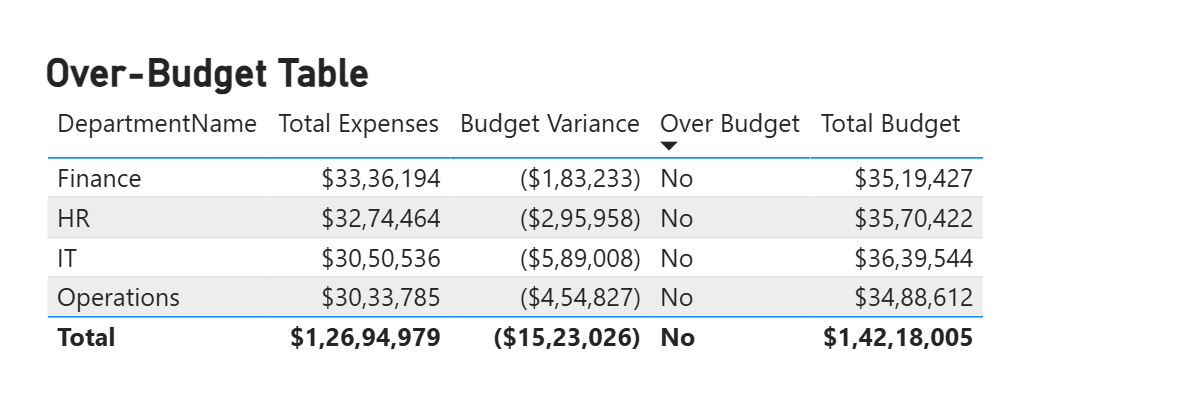

The page's visual inventory and layout, read from the dashboard file:
{"tool":"powerbi","page":{"name":"Page 4","canvas":[1280,720],"ordinal":3},"visuals":[{"type":"tableEx","title":"Over-Budget Table","fields":{"Values":["Departments.DepartmentName","Measures (2).Total Expenses","Measures (2).Budget Variance","Measures (2).Over Budget","Measures (2).Total Budget"]},"box":[141.7,156.7,538.3,173.3],"z":0}]}

Visuals, with their boxes on the page's 1280x720 design canvas (x1, y1, x2, y2). These are canvas units, not pixel positions in the 1195x416 screenshot, which may show the page scaled, cropped or inside an application window:
"Over-Budget Table" tableEx: locate(142, 157, 680, 330)
